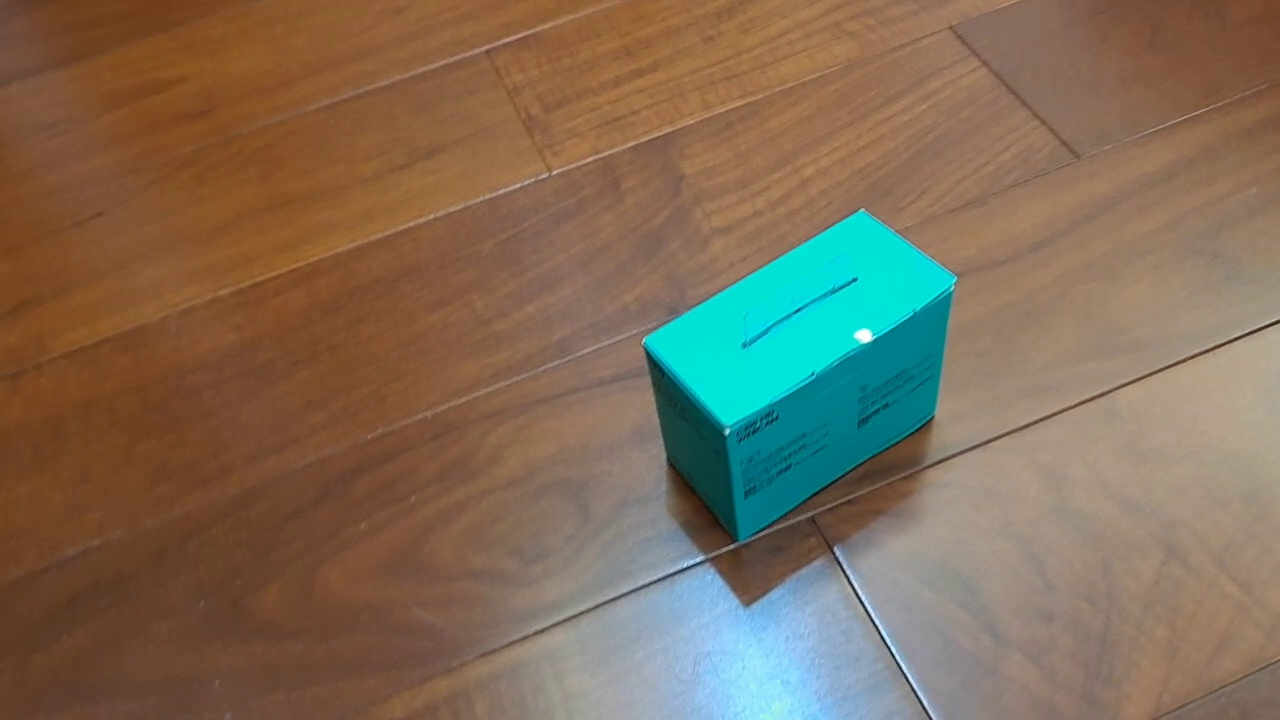webcam: (640, 206, 959, 544)
